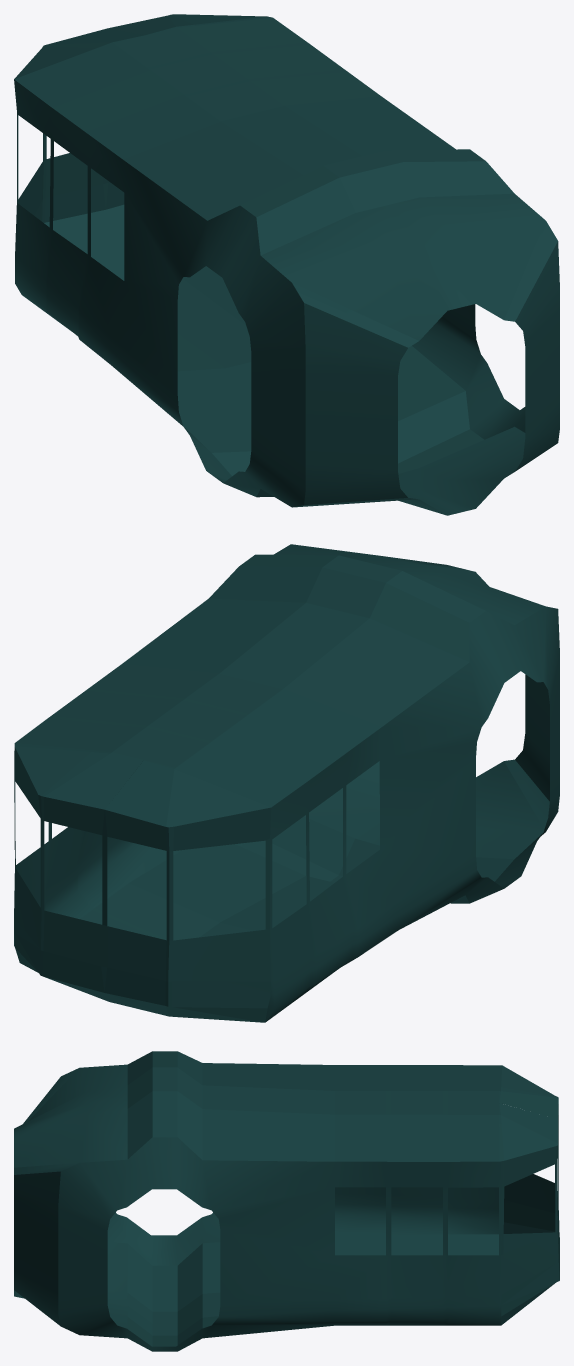
Rendered from OutsideObservatoryRoom.fbx.
3 renders of one model, top to bottom at view 1: azimuth 30°, elevation 25°; view 2: azimuth 150°, elevation 25°; view 3: azimuth 270°, elevation 25°, orthographic. The views are drawn at different scales.
Parts seen in each view (by area): view 1: OutsideObservatoryRoom; view 2: OutsideObservatoryRoom; view 3: OutsideObservatoryRoom.
Part boxes in pixels (<box>): OutsideObservatoryRoom: <box>14,14,559,515</box>; OutsideObservatoryRoom: <box>14,544,559,1022</box>; OutsideObservatoryRoom: <box>14,1051,559,1351</box>.
Bounding box in the file's own units: 553 × 1147 × 567.
